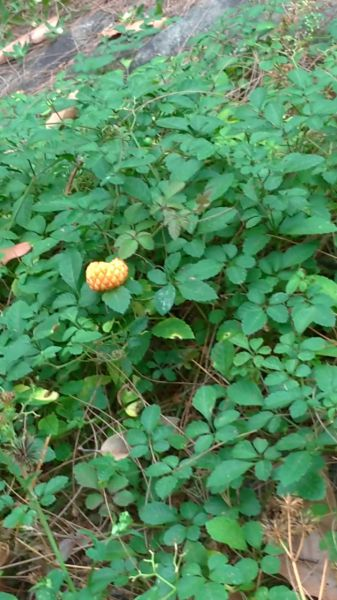eggs: (81, 251, 132, 297)
